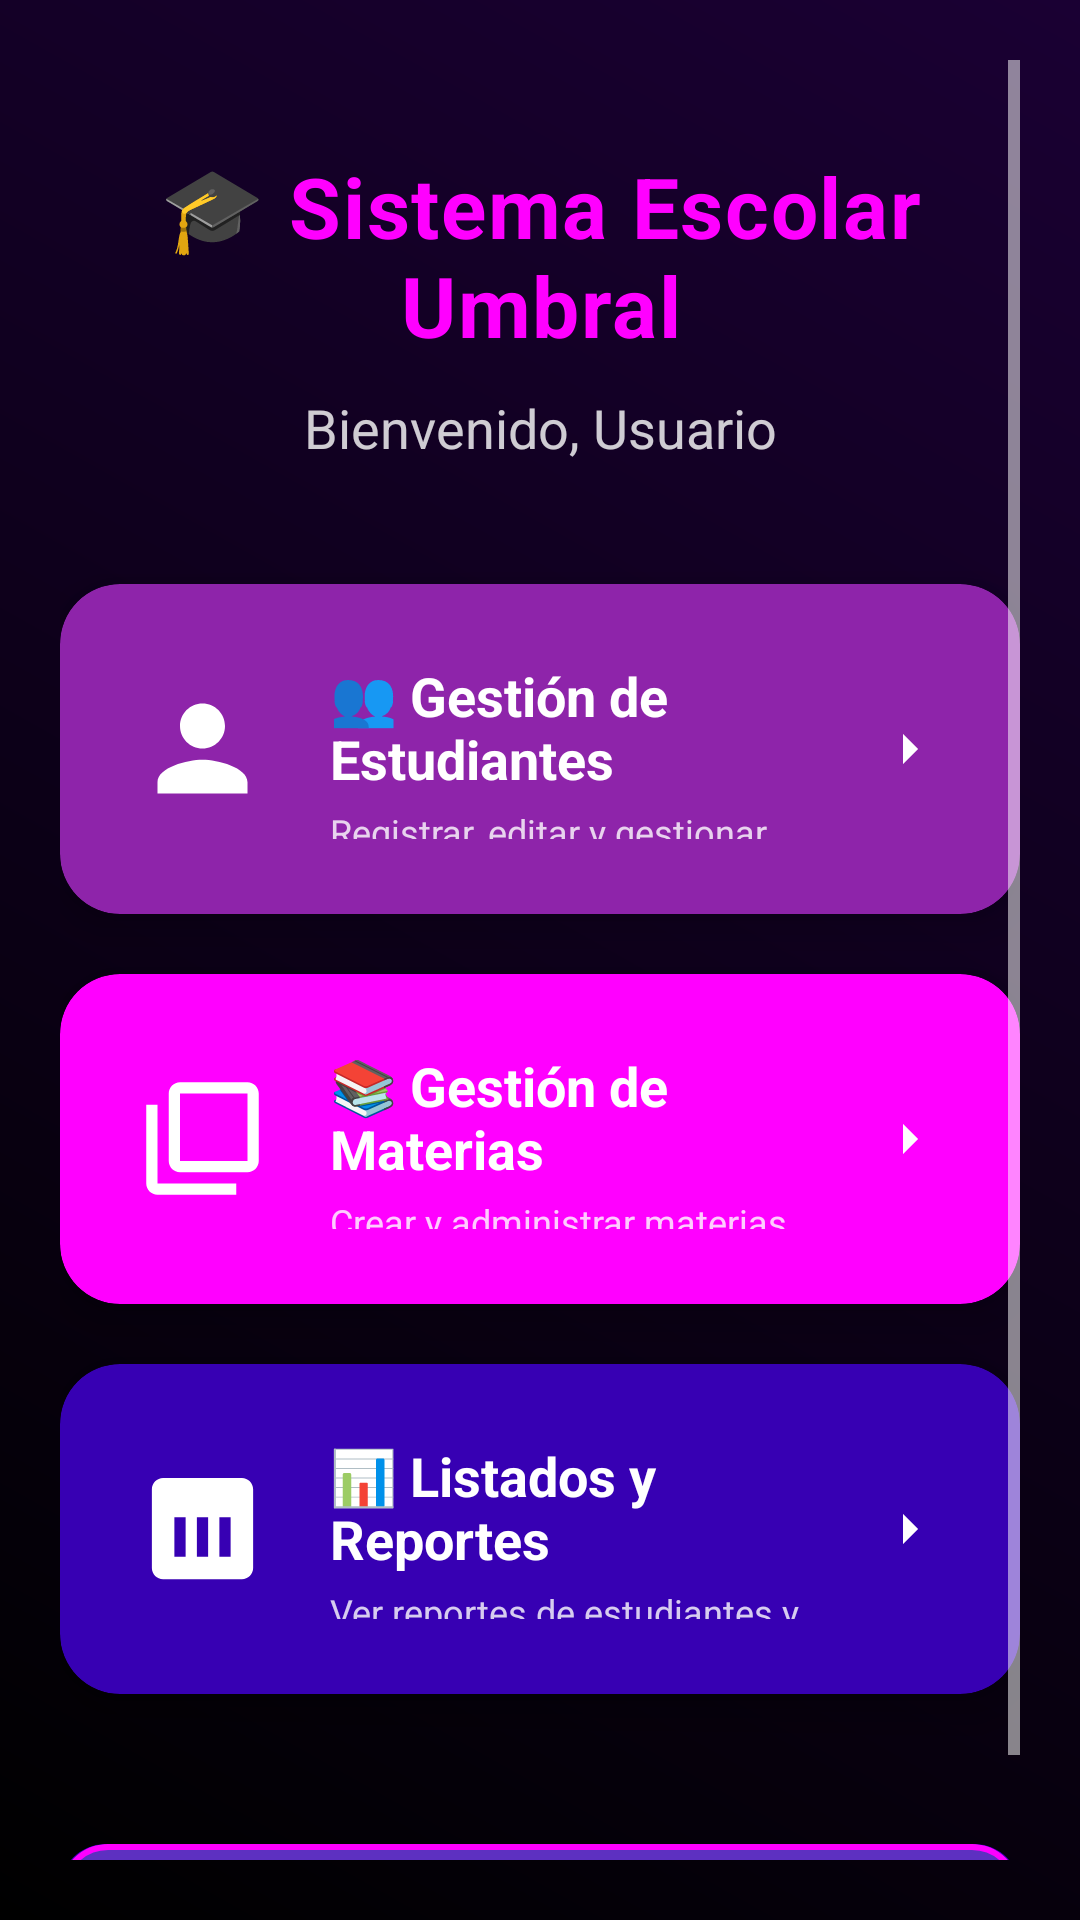

Point at icon controls on the screen. Image size 1080 x 1920, points as (x,y).
arrow right: (910,749), (910,1139), (910,1529)
reports: (202,1529)
students: (202,748)
subjects: (202,1138)
